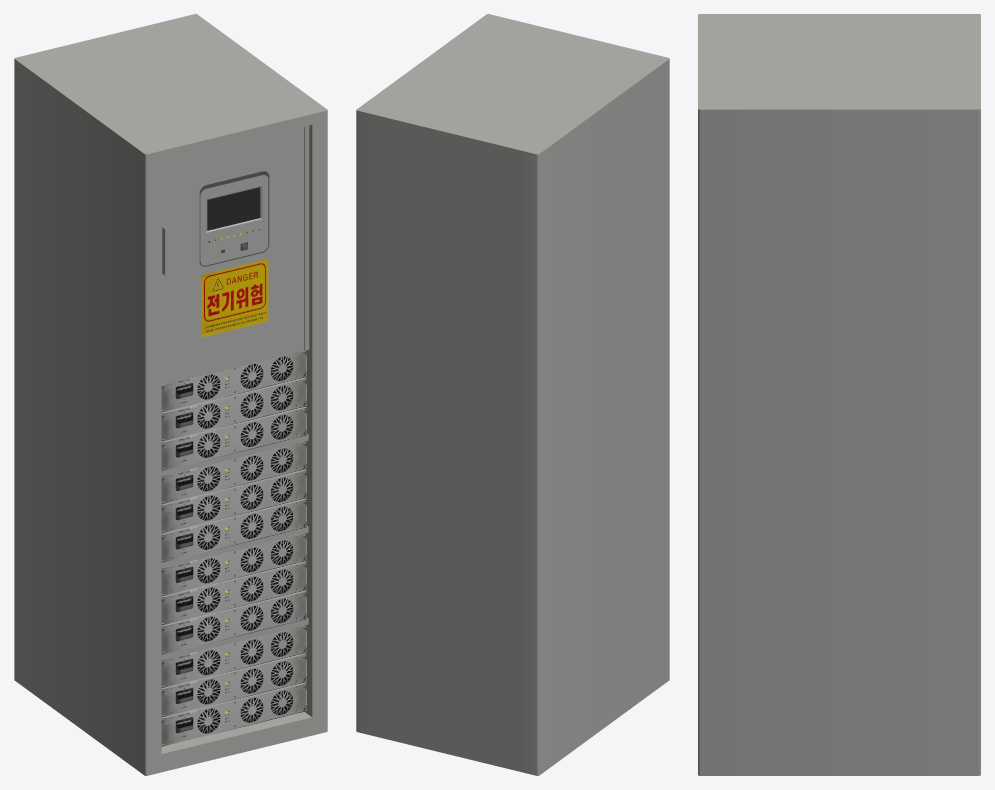
The picture shows the model from 3 angles, left to right: view 1: azimuth 30°, elevation 25°; view 2: azimuth 150°, elevation 25°; view 3: azimuth 270°, elevation 25°; orthographic projection. The views are drawn at different scales.
Visible parts, largest first — view 1: LDPS-1800M001; view 2: LDPS-1800M001; view 3: LDPS-1800M001.
Part boxes in pixels (box(x1,y1,x2,y2)): LDPS-1800M001: box(14, 14, 327, 775); LDPS-1800M001: box(356, 14, 669, 775); LDPS-1800M001: box(698, 14, 980, 775).
Size of the model in its own units: 0.6 by 1.95 by 0.75.
Materials: 8 (2 with a texture image).
